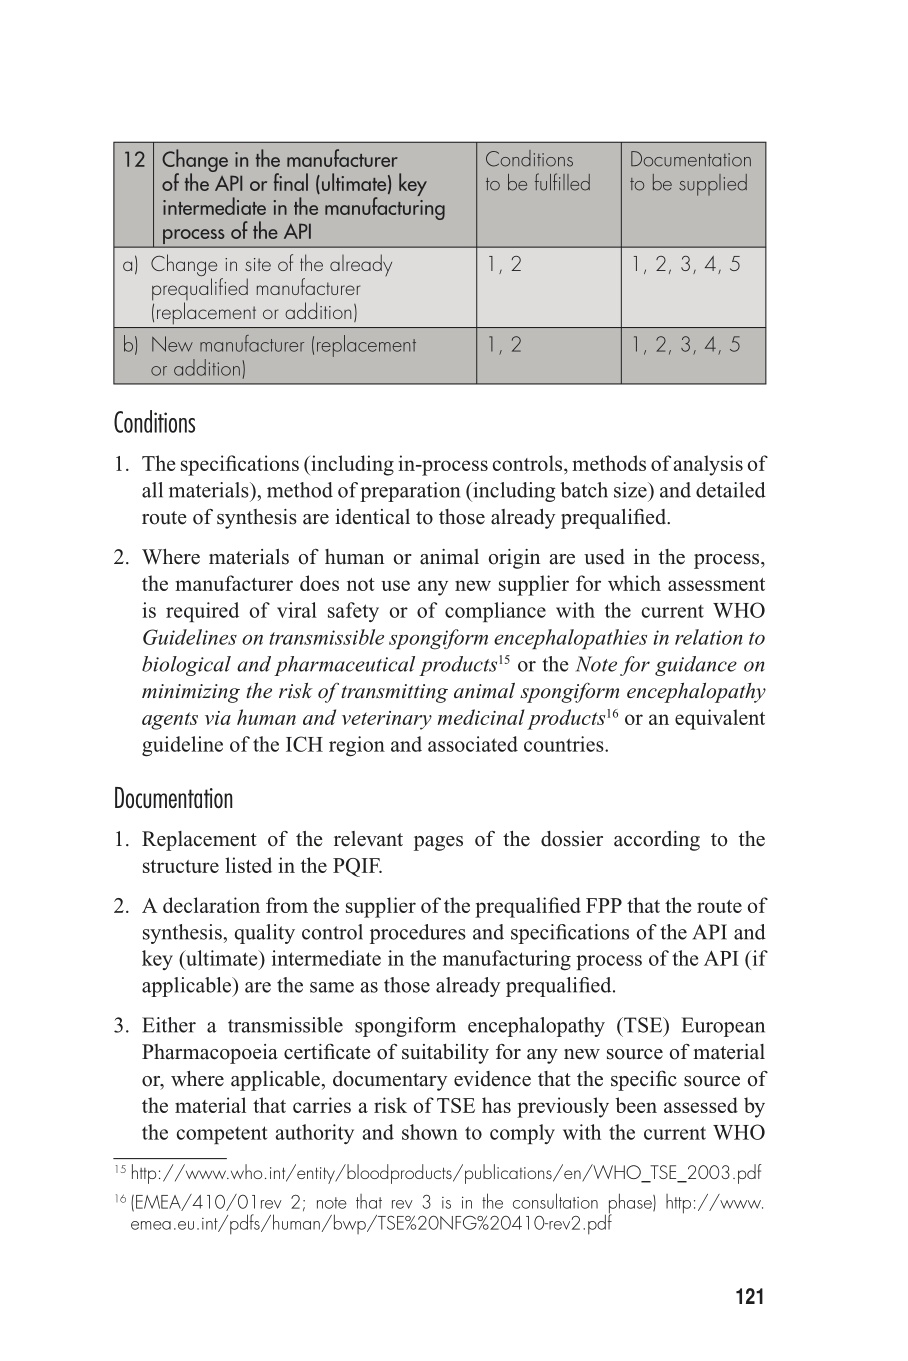merged_cells: (111, 141, 768, 385)
